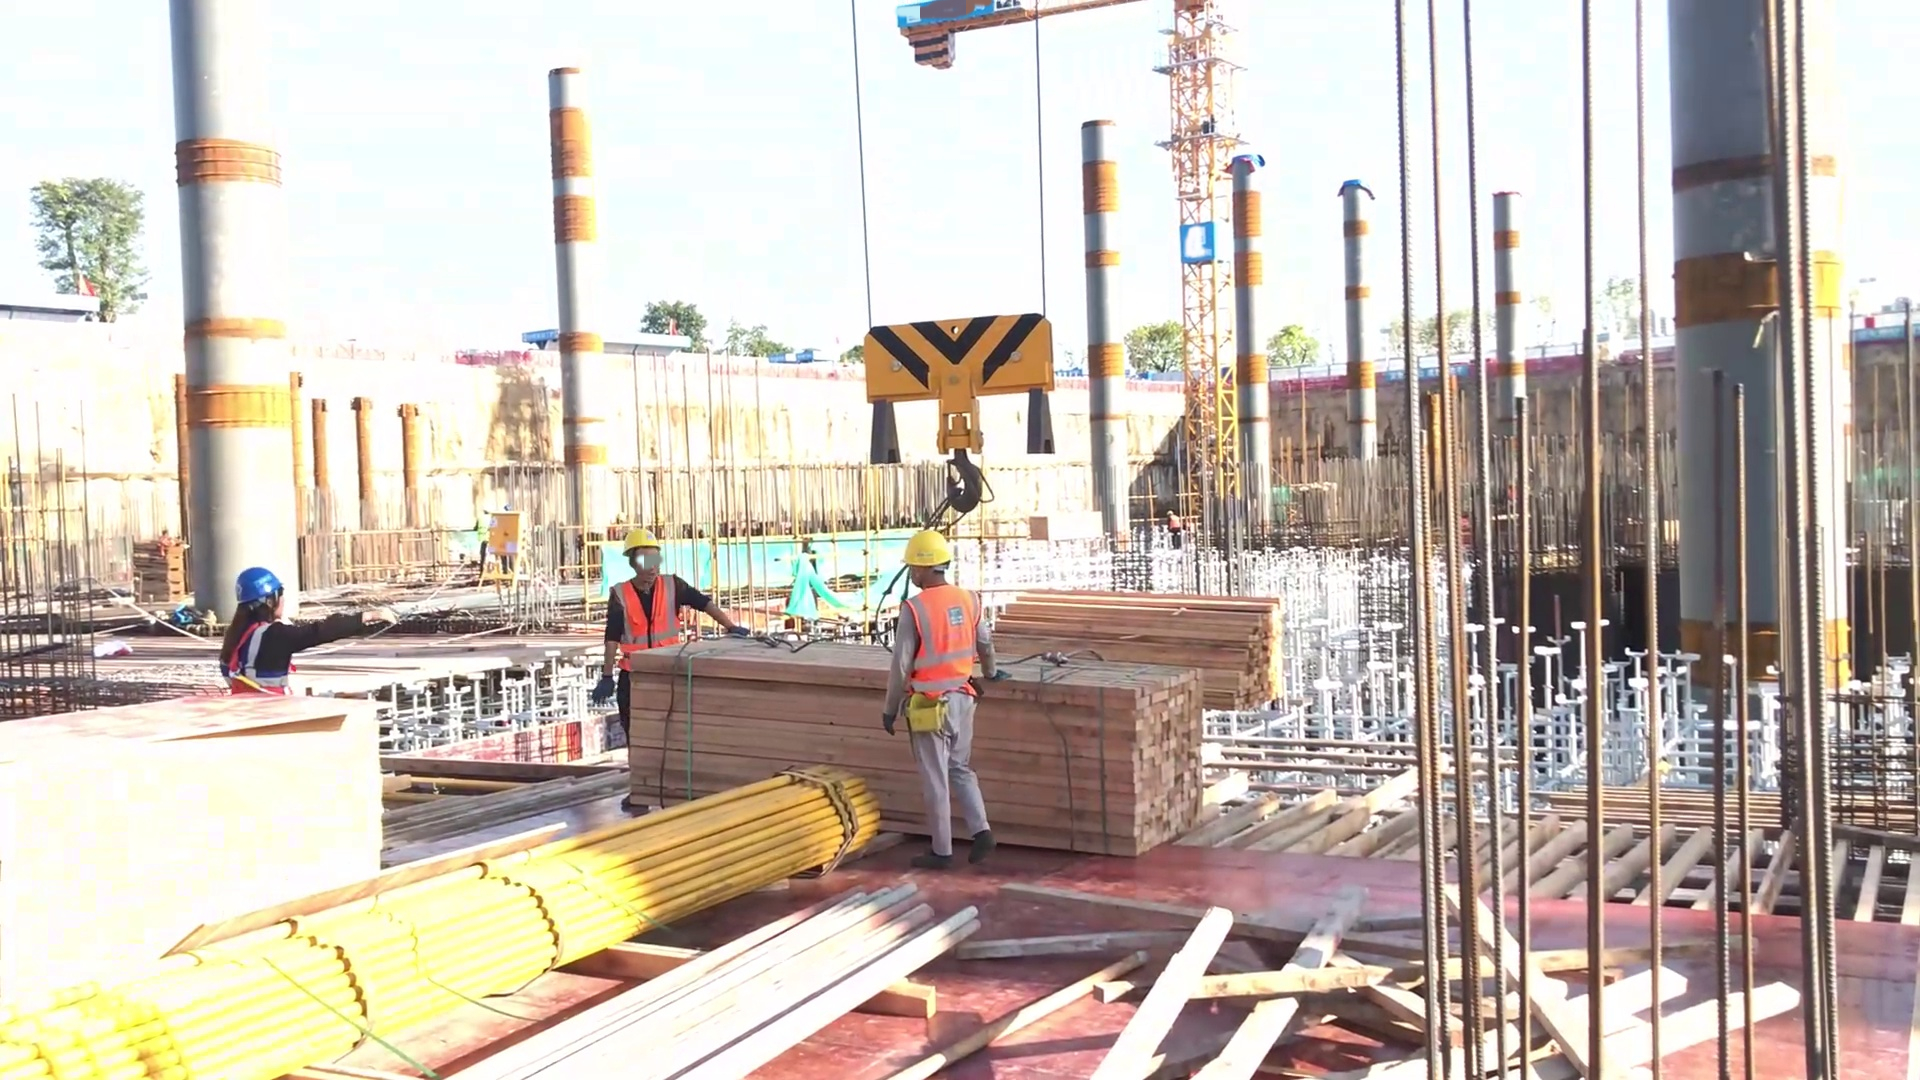helmet: (223, 557, 305, 608), (902, 519, 956, 573), (615, 518, 674, 565)
hook: (851, 316, 1067, 454)
person: (892, 526, 998, 845), (596, 516, 742, 691), (216, 564, 396, 700)
rebar: (457, 884, 1016, 1080)
vest: (896, 595, 982, 693), (219, 612, 305, 700), (624, 576, 692, 645)
wood: (612, 614, 1229, 872), (973, 583, 1294, 718)
